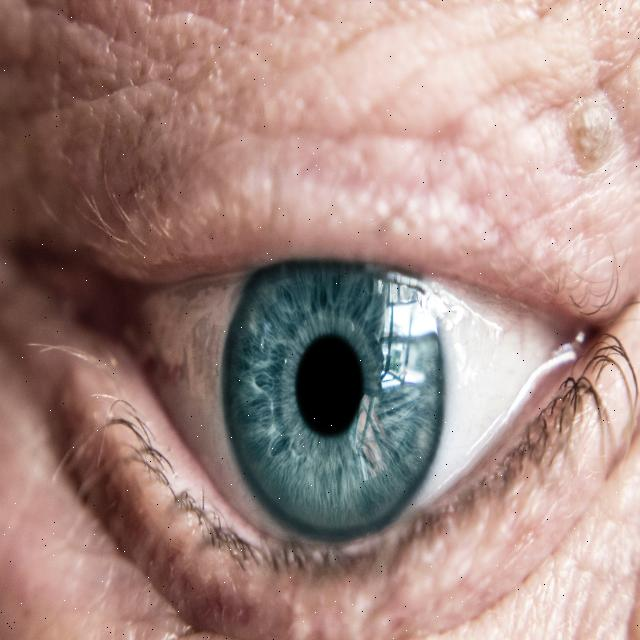Normal: (221, 245, 447, 544)
